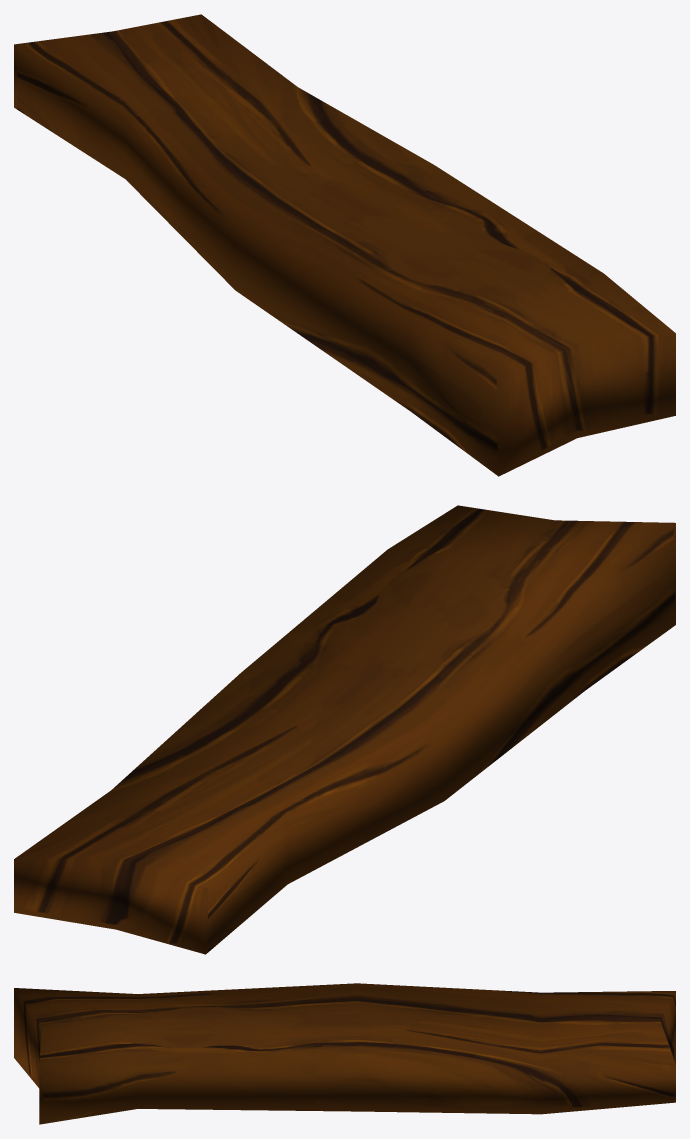
Rendered from Plank2.fbx.
The picture shows the model from 3 angles, top to bottom: view 1: azimuth 30°, elevation 25°; view 2: azimuth 150°, elevation 25°; view 3: azimuth 270°, elevation 25°; orthographic projection. The views are drawn at different scales.
Parts seen in each view (by area): view 1: Wood_Plank2; view 2: Wood_Plank2; view 3: Wood_Plank2.
Boxes of the visible parts, x1,y1,x2,y2 form: Wood_Plank2: (14, 14, 675, 476); Wood_Plank2: (14, 505, 675, 954); Wood_Plank2: (14, 983, 675, 1124).
Bounding box in the file's own units: 0.7485 × 0.3338 × 2.86.
